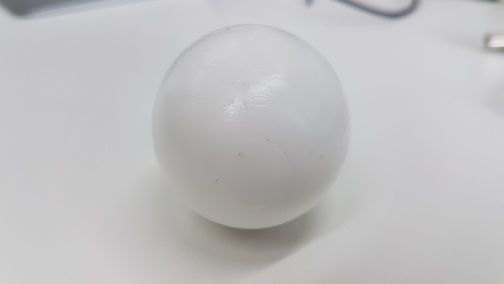egg: (147, 22, 351, 231)
